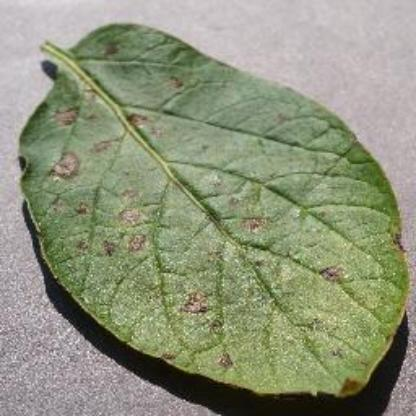Early-Blight: (15, 23, 405, 403)
